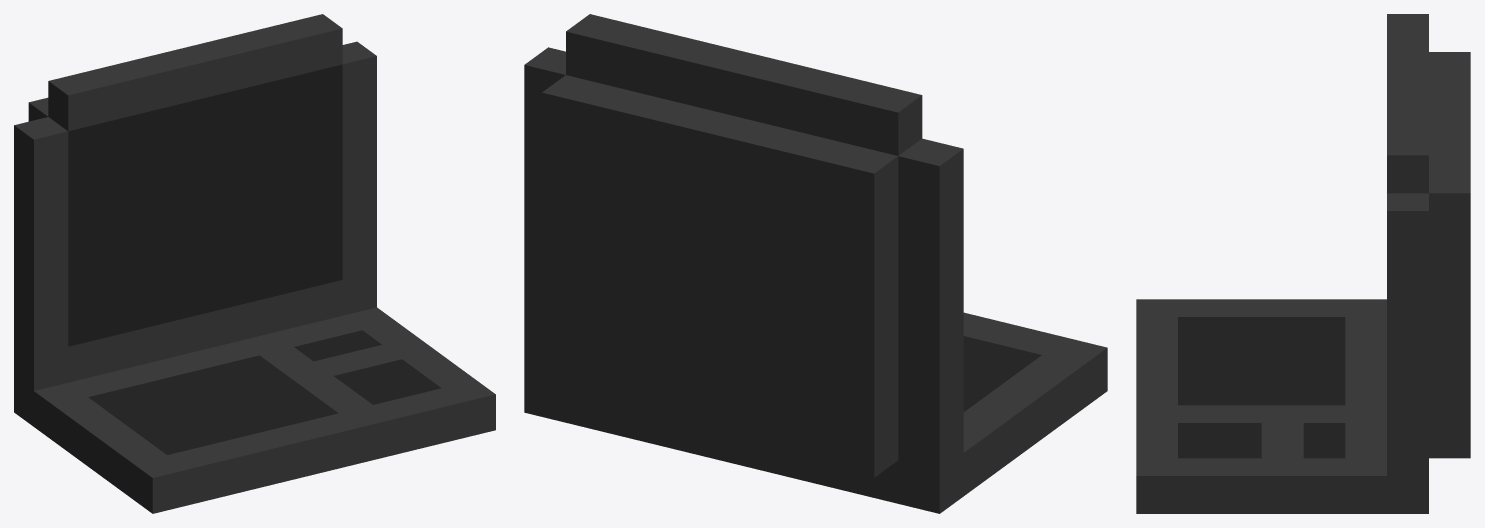
The model's file is computer-b.glb.
3 views of the same model, side by side, from view 1: azimuth 30°, elevation 25°; view 2: azimuth 150°, elevation 25°; view 3: azimuth 270°, elevation 25° (orthographic). The views are drawn at different scales.
Parts seen in each view (by area): view 1: Untitled; view 2: Untitled; view 3: Untitled.
Boxes of the visible parts, x1,y1,x2,y2 form: Untitled: (14,14,495,513); Untitled: (524,14,1107,513); Untitled: (1136,14,1470,513).
Bounding box in the file's own units: 1 × 0.9 × 0.8.
1 material, 1 textured.
